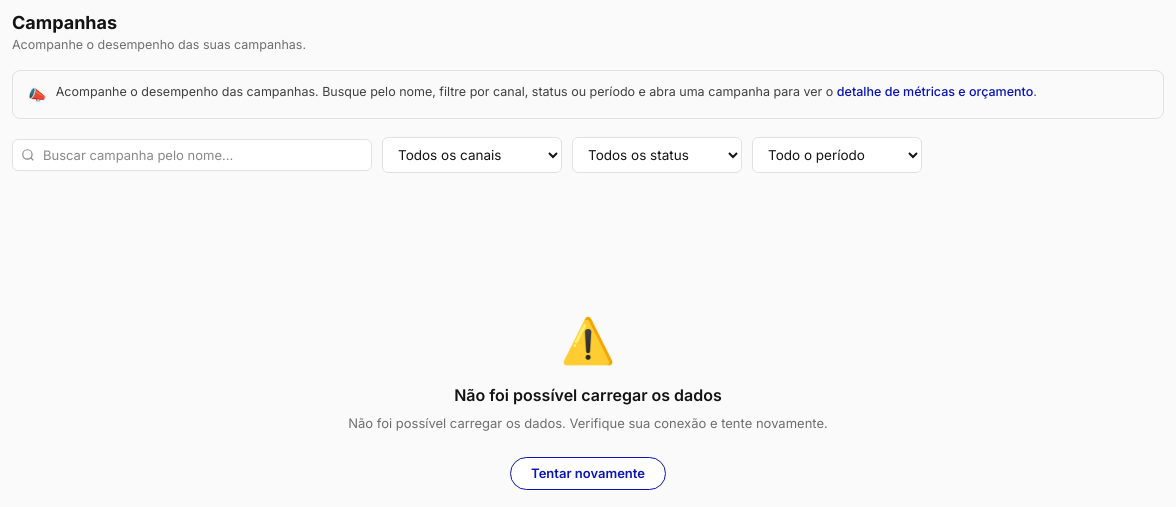
Scenario: CampaignListScreen › mostra erro e tenta novamente
The image size is (1176, 507).
Expected: the message shows "Não foi possível carregar os dados. Verifique sua conexão e tente novamente.", 348,415 -> 828,431
Step 1. Click the button "Tentar novamente" → (588, 473), box 510,457 -> 666,490
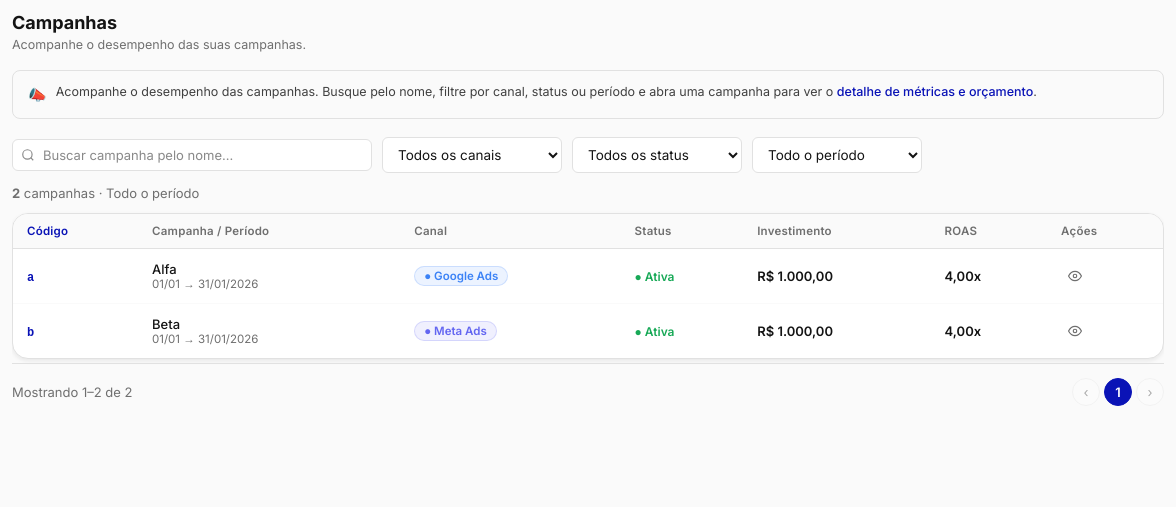
Expected: the text "Alfa" is shown, 152,261 -> 177,277
